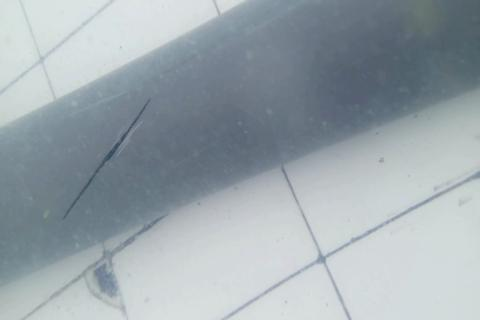keretakan: (62, 96, 151, 221)
